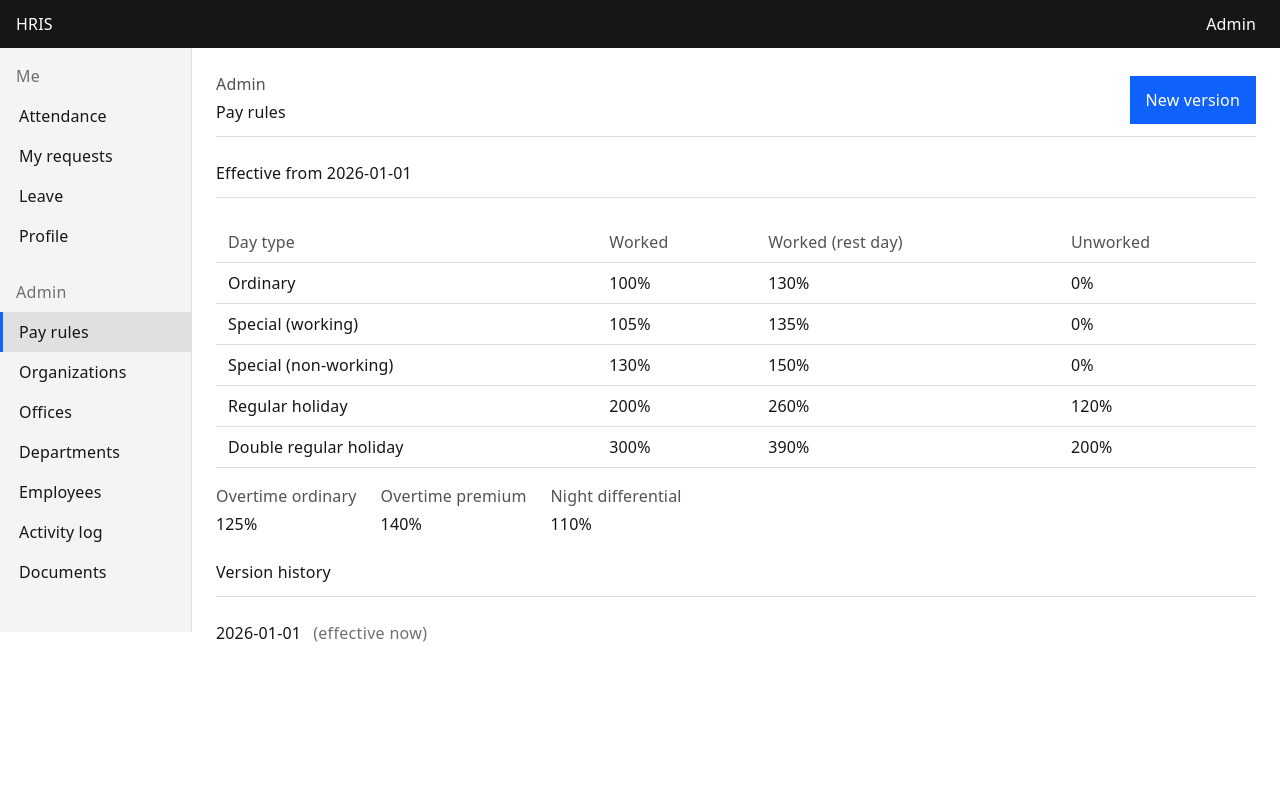
Scenario: /admin/pay-rules — new version › submitting maps percent to bp and posts the full 5-day_rate matrix, then invalidates
Click the button "New version" at [1193, 100], box [1130,76,1256,124]
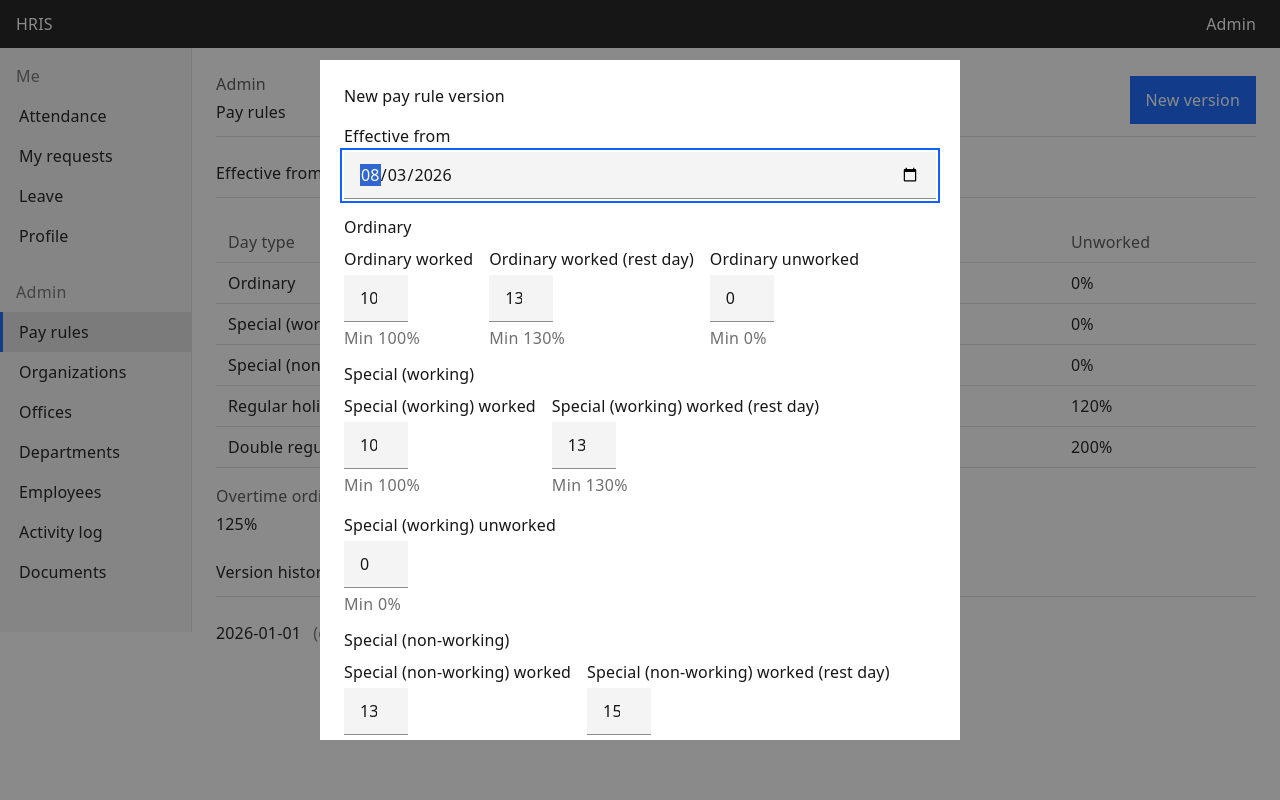
Check: the dialog is shown, box [320,60,960,740]
Type "2026-08-01" into the date field labelled "Effective from" at [640, 176], box [344,152,936,199]
(page scrolled)
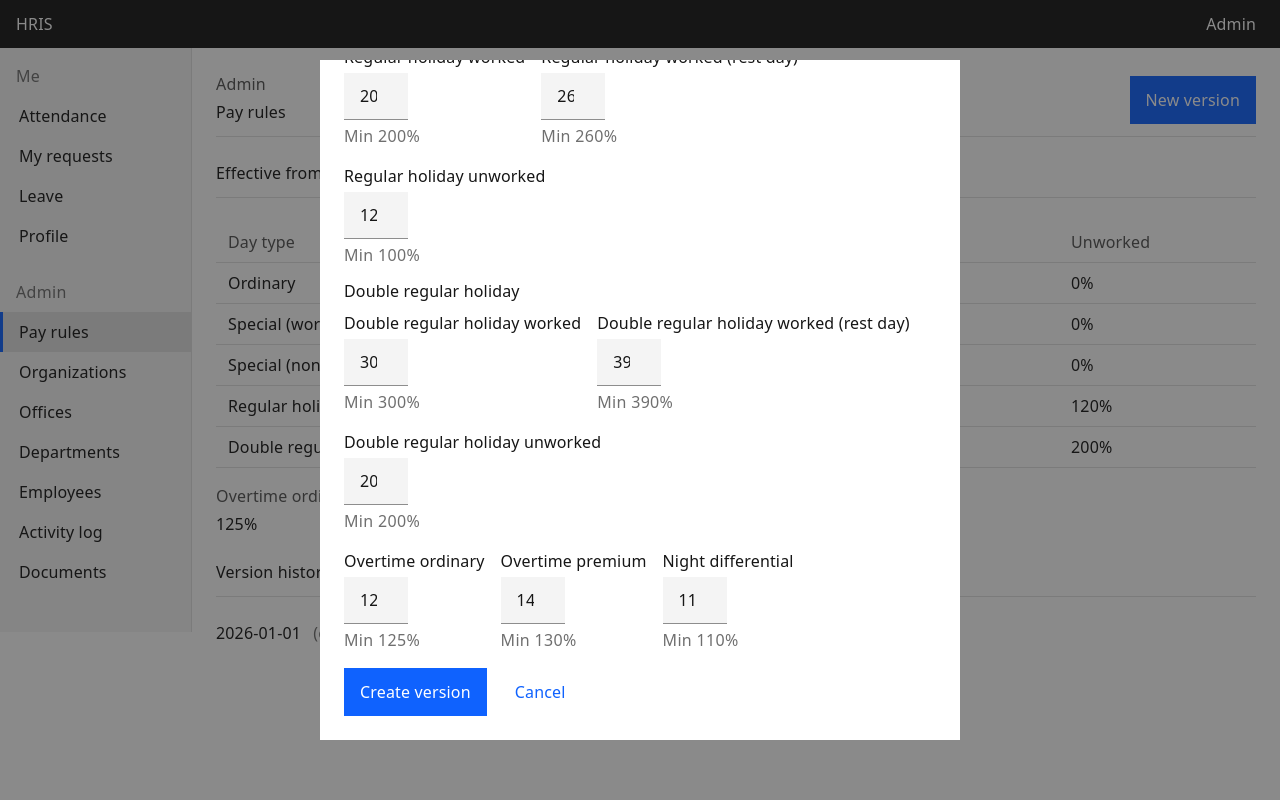
Replace the text in the number field labelled "Overtime ordinary" with "150" at [376, 600], box [344,577,408,624]
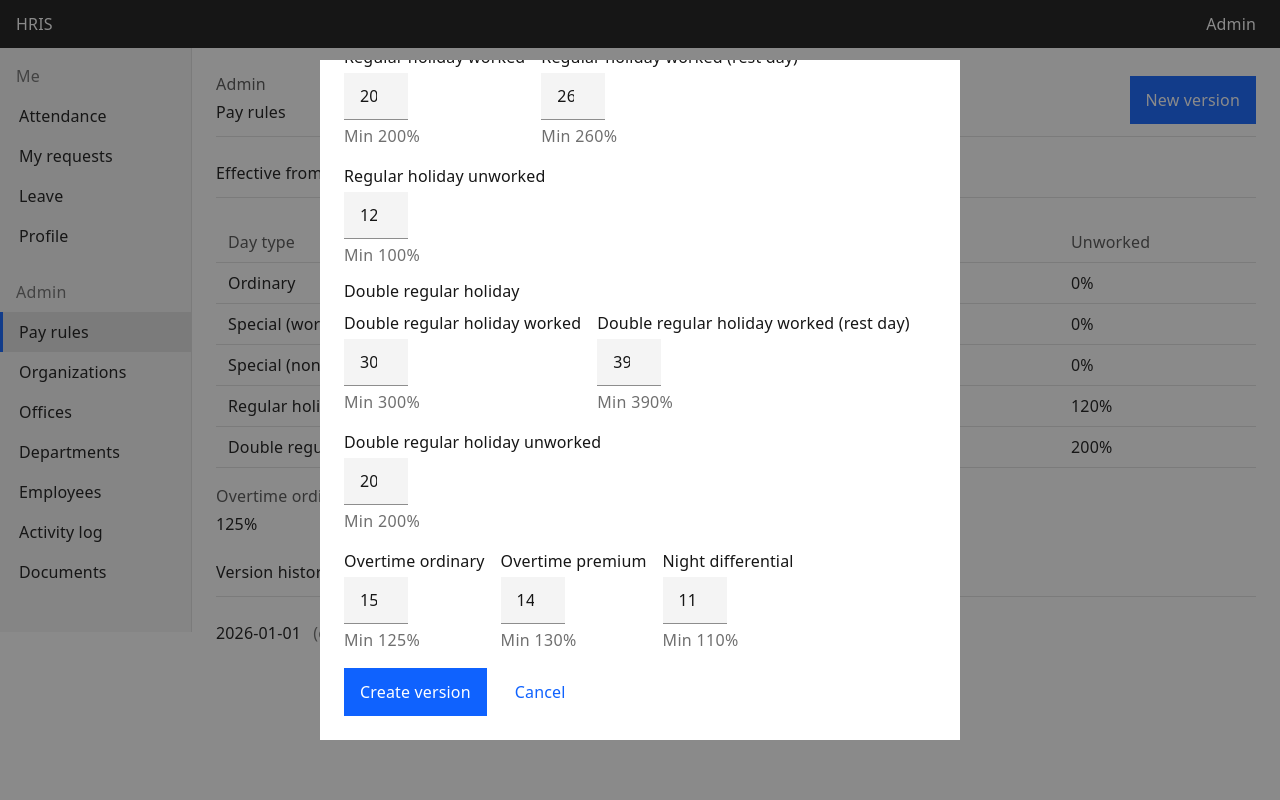
Click the button "Create version" at [415, 692], box [344,668,487,716]
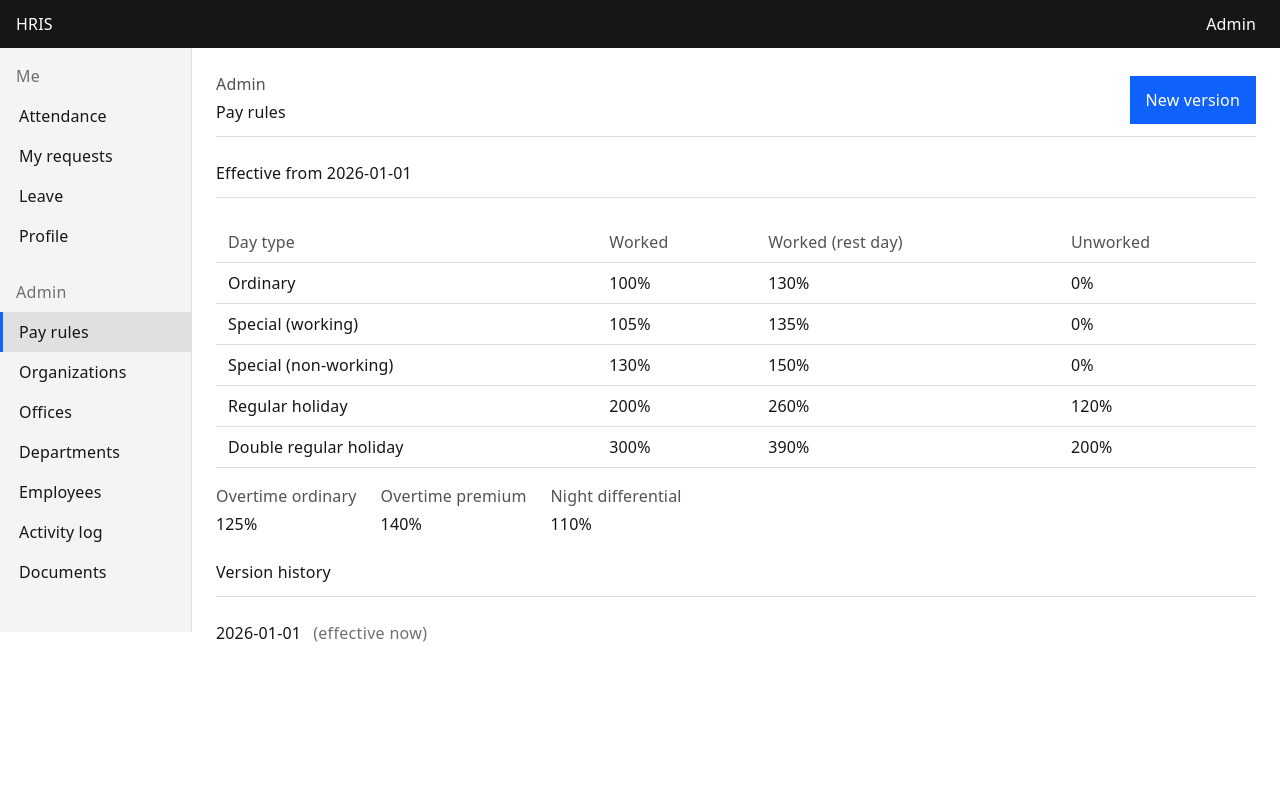
Check: the dialog is gone
